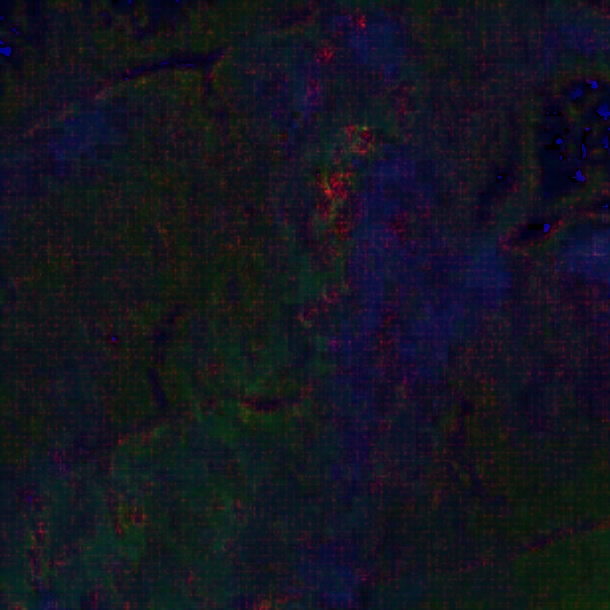rip_current: (171, 40, 422, 533)
